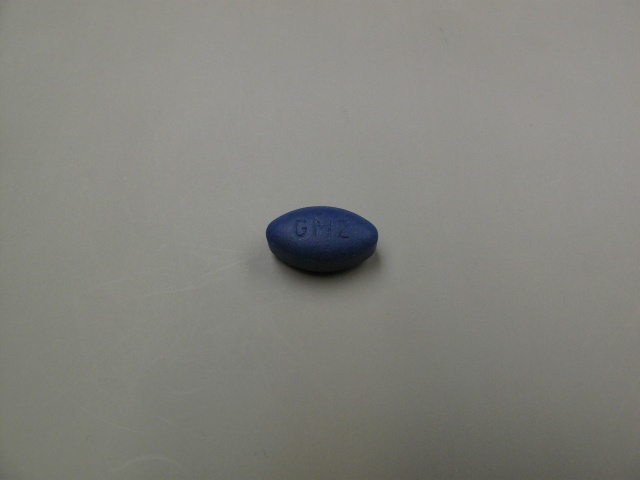G: (293, 218, 308, 242)
M: (311, 219, 333, 242)
Z: (335, 217, 351, 241)
